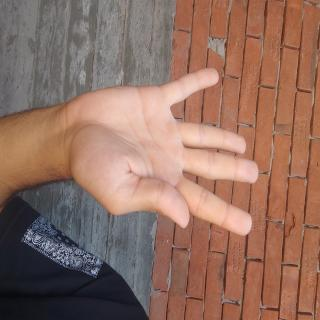SHEEN: (43, 75, 177, 320)
